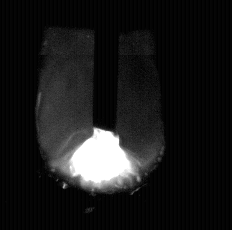arame: (92, 0, 120, 136)
poca: (36, 0, 165, 230)
